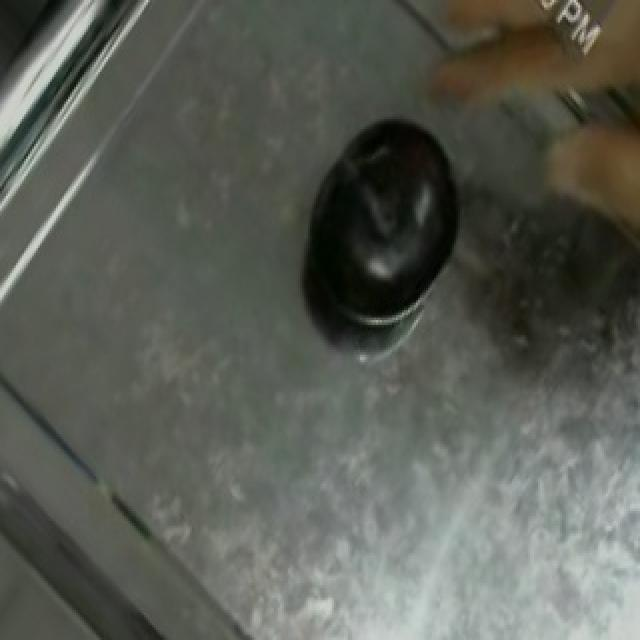Fruit: (346, 102, 474, 305)
